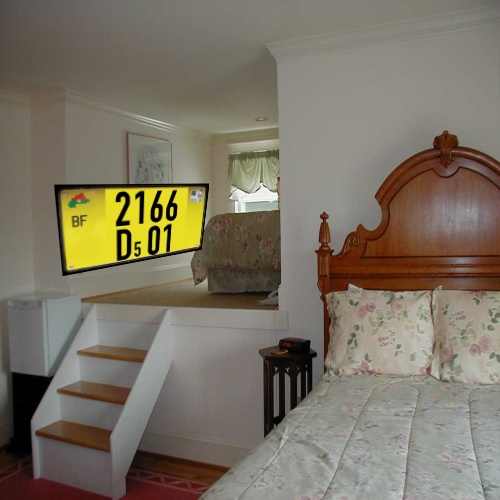plate: (39, 170, 220, 281)
